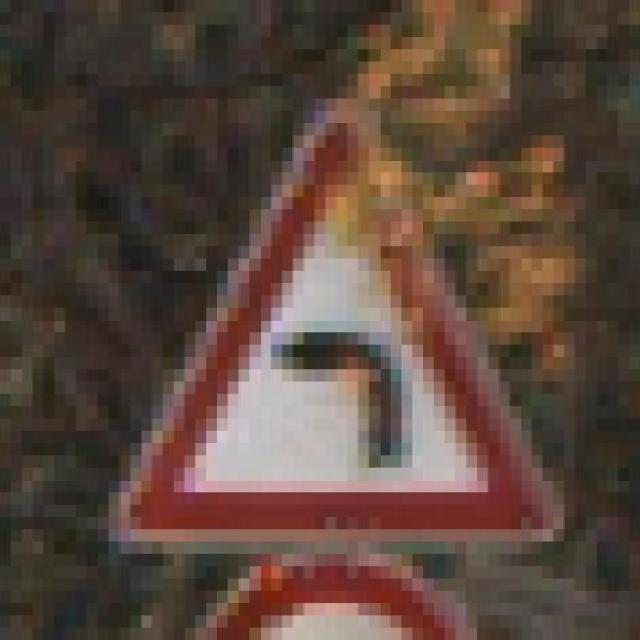Dangerous Left Curve Ahead: (75, 98, 576, 554)
